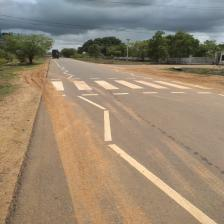blueboard: (51, 49, 60, 59)
crossing: (46, 58, 219, 223)
